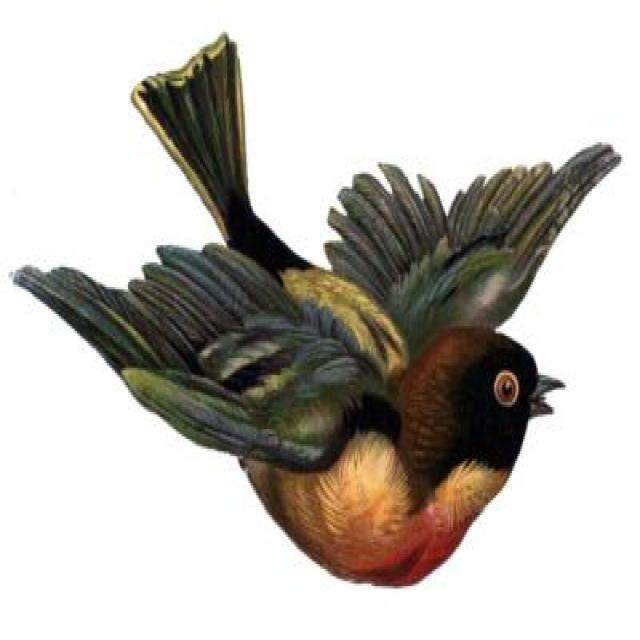birds: (7, 28, 625, 596)
